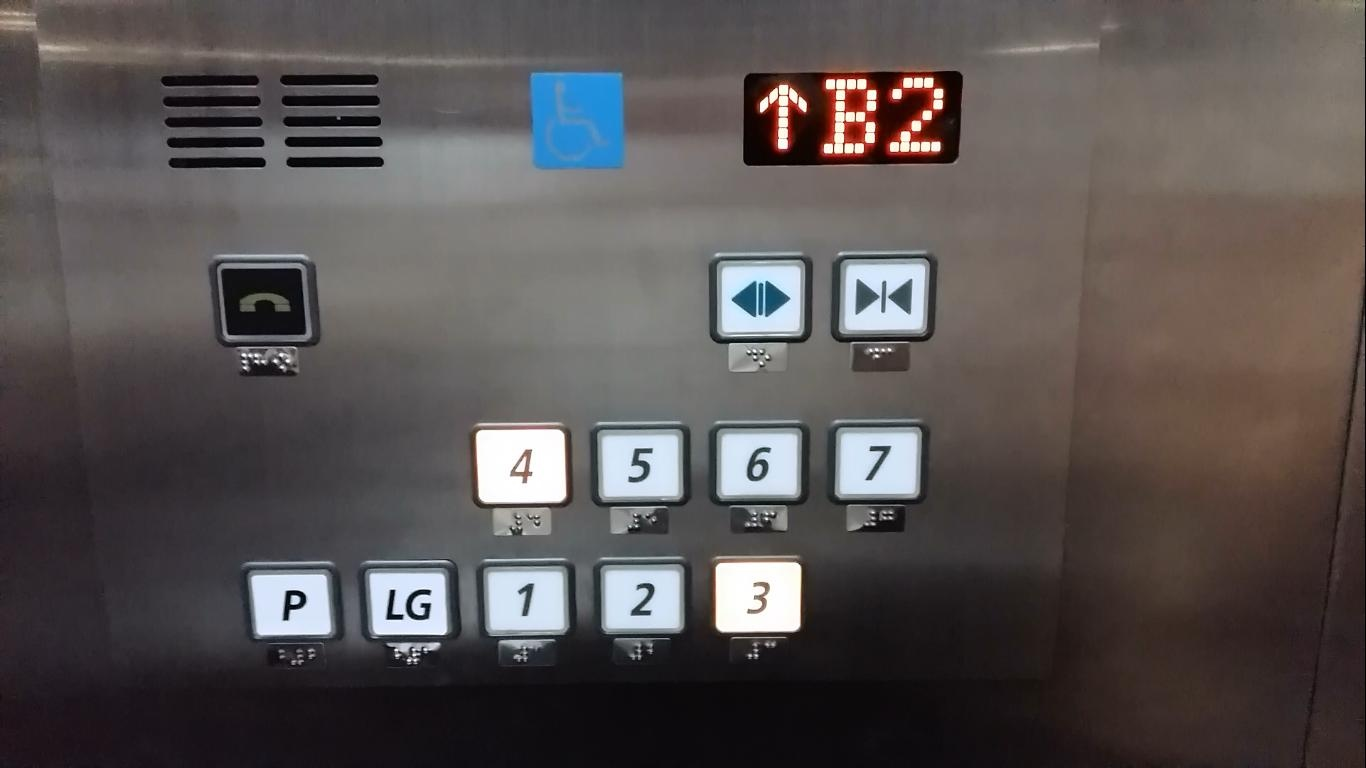1: (472, 552, 582, 645)
2: (587, 549, 698, 646)
3: (703, 549, 811, 642)
4: (467, 415, 578, 512)
5: (585, 415, 696, 512)
6: (703, 415, 814, 512)
7: (820, 411, 931, 508)
CH: (525, 66, 629, 174)
LG: (353, 550, 466, 646)
P: (234, 555, 349, 651)
call: (204, 247, 325, 350)
close: (826, 244, 942, 345)
led: (737, 66, 966, 167)
open: (702, 246, 818, 347)
